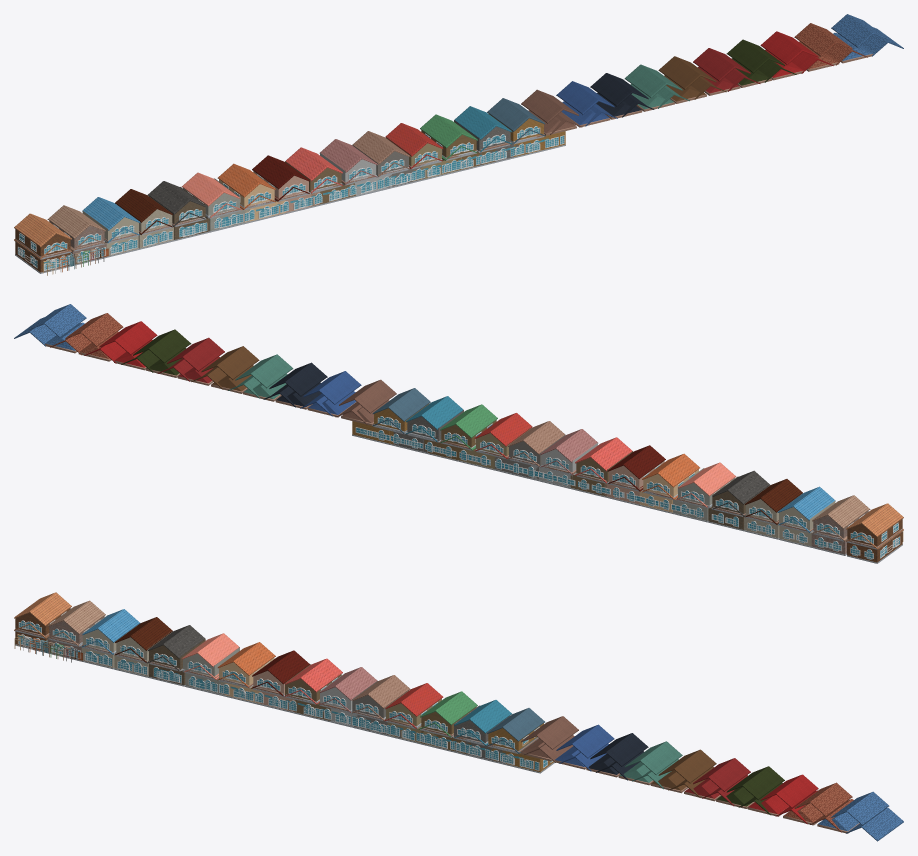
Rendered from Long_Modular_Custom_Houses.fbx.
The picture shows the model from 3 angles, top to bottom: view 1: azimuth 30°, elevation 25°; view 2: azimuth 150°, elevation 25°; view 3: azimuth 330°, elevation 25°; orthographic projection.
Visible parts, largest first — view 1: Roof_3, F2_1, Roof_2, Roof_1; view 2: Roof_3, Roof_2, F2_1, Roof_1, Base_M_1_1, Roof_P_3_1; view 3: Roof_3, Roof_2, F2_1, Roof_1.
Part boxes in pixels (x1=…): Roof_3: x1=14, y1=14, x2=889, y2=247; F2_1: x1=15, y1=113, x2=544, y2=259; Roof_2: x1=15, y1=32, x2=873, y2=257; Roof_1: x1=14, y1=27, x2=903, y2=259; Roof_3: x1=28, y1=304, x2=903, y2=537; Roof_2: x1=45, y1=322, x2=902, y2=547; F2_1: x1=373, y1=403, x2=902, y2=549; Roof_1: x1=14, y1=317, x2=903, y2=549; Base_M_1_1: x1=847, y1=532, x2=902, y2=563; Roof_P_3_1: x1=847, y1=520, x2=902, y2=547; Roof_3: x1=14, y1=592, x2=889, y2=825; Roof_2: x1=15, y1=628, x2=859, y2=833; F2_1: x1=15, y1=608, x2=535, y2=753; Roof_1: x1=14, y1=623, x2=903, y2=841.
Size of the model in its own units: 11.86 by 0.5023 by 0.7023.
